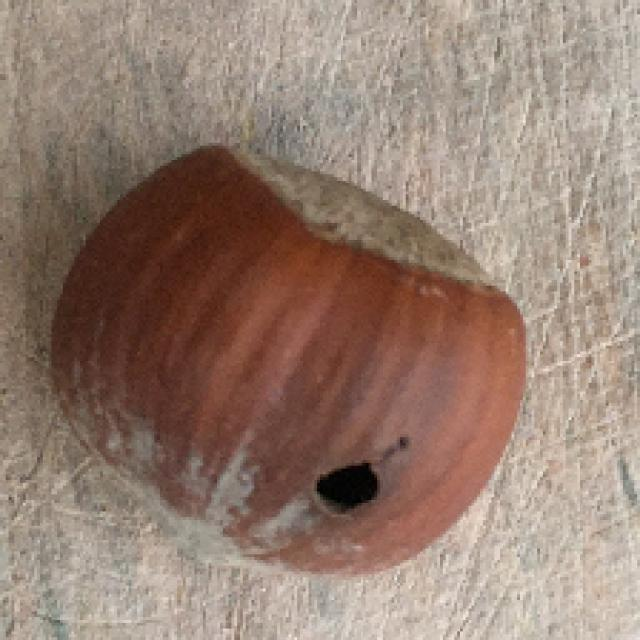damagedHazelnut: (33, 139, 528, 592)
